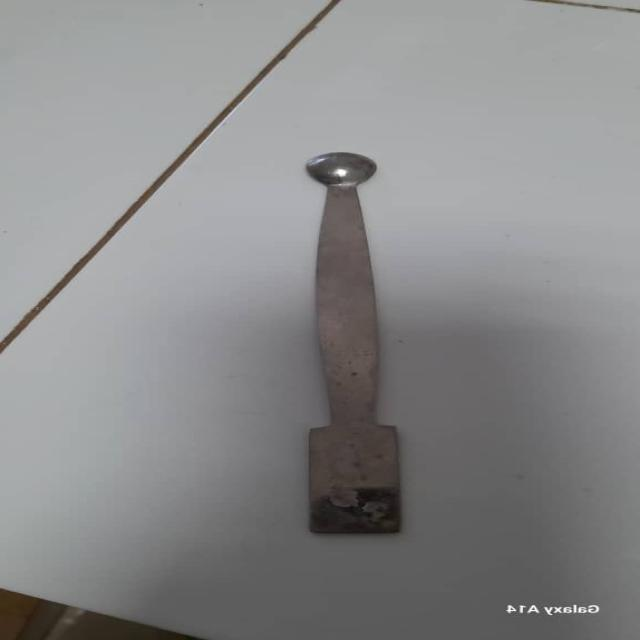Spatula: (287, 147, 411, 544)
